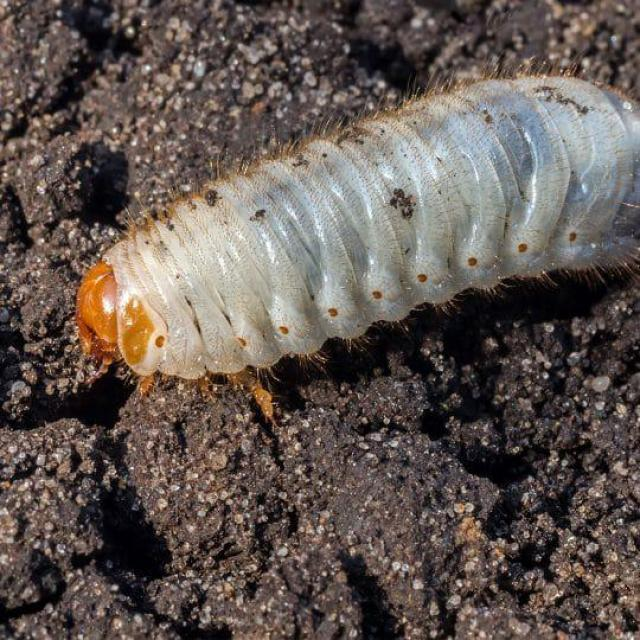Grub-Adult-: (50, 47, 635, 384)
